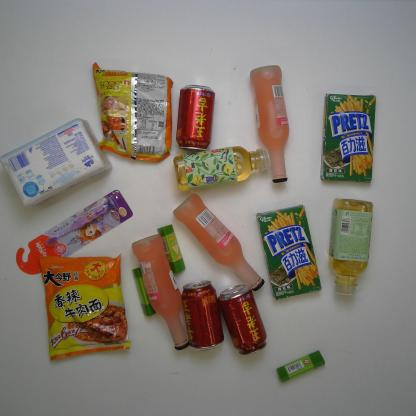Alcohol: (169, 192, 266, 292), (130, 230, 193, 352), (248, 64, 292, 184)
Dessert: (252, 201, 325, 302), (319, 86, 378, 190)
Drink: (171, 140, 273, 193), (326, 196, 378, 296), (217, 282, 269, 357), (179, 278, 227, 355), (176, 82, 218, 154)
Instant Noodles: (36, 248, 134, 364), (87, 58, 177, 162)
Personal Hygiene: (12, 186, 136, 276)
Stationery: (275, 348, 326, 386), (154, 222, 187, 276), (131, 262, 160, 316)
Tissue: (0, 115, 112, 209)
